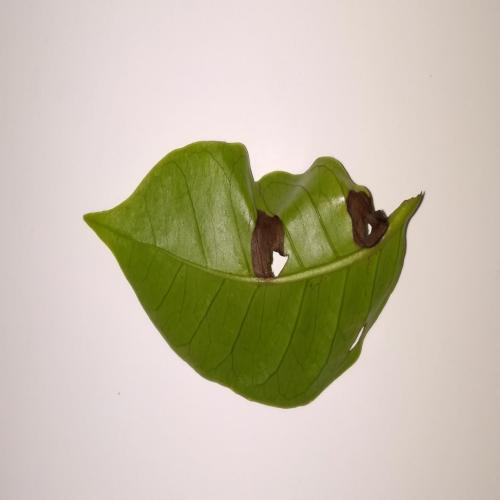miner: (346, 190, 388, 248)
